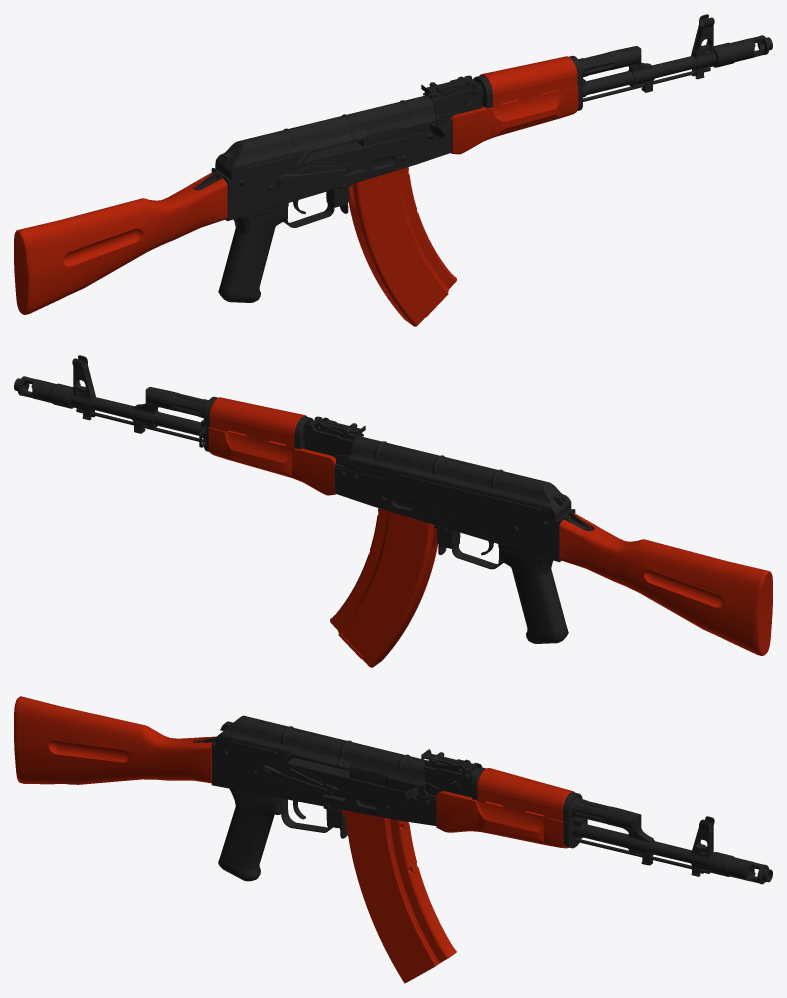
3 renders of one model, top to bottom at view 1: azimuth 30°, elevation 25°; view 2: azimuth 150°, elevation 25°; view 3: azimuth 330°, elevation 25°, orthographic.
Visible parts, largest first — view 1: Object002_low, Box003_low, Box001_low, Object039_low, Object005_low, Object007_low, Object006_low, boltcarrier_low, Object013_low, Object009_low, Object026_low, Object024_low (+4 smaller); view 2: Object002_low, Box003_low, Object039_low, Box001_low, Object005_low, Object007_low, Object006_low, Object013_low, Object026_low, Object024_low, Object018_low, Object016_low (+2 smaller); view 3: Object002_low, Box003_low, Box001_low, Object039_low, Object005_low, Object007_low, Object006_low, boltcarrier_low, Object013_low, Object009_low, Object026_low, Object024_low (+4 smaller).
Part boxes in pixels (box(x1,y1,x2,y2)): Object002_low: box(14, 172, 227, 314); Box003_low: box(348, 167, 456, 326); Box001_low: box(215, 126, 452, 220); Object039_low: box(215, 95, 434, 181); Object005_low: box(451, 86, 578, 154); Object007_low: box(218, 203, 288, 302); Object006_low: box(479, 56, 577, 107); boltcarrier_low: box(357, 108, 443, 146); Object013_low: box(652, 14, 714, 79); Object009_low: box(274, 162, 364, 189); Object026_low: box(423, 75, 482, 117); Object024_low: box(713, 35, 772, 67); Object002_low: box(559, 513, 772, 655); Box003_low: box(330, 508, 438, 667); Object039_low: box(349, 436, 571, 522); Box001_low: box(334, 467, 571, 561); Object005_low: box(208, 427, 335, 495); Object007_low: box(498, 544, 568, 643); Object006_low: box(209, 397, 307, 448); Object013_low: box(72, 355, 134, 420); Object026_low: box(304, 416, 363, 458); Object024_low: box(14, 376, 73, 408); Object018_low: box(131, 387, 173, 433); Object016_low: box(152, 411, 209, 451); Object002_low: box(14, 696, 215, 784); Box003_low: box(342, 810, 456, 983); Box001_low: box(212, 743, 436, 825); Object039_low: box(215, 715, 427, 774); Object005_low: box(436, 791, 568, 848); Object007_low: box(218, 788, 281, 881); Object006_low: box(477, 768, 574, 821); boltcarrier_low: box(349, 759, 424, 801); Object013_low: box(648, 816, 714, 876); Object009_low: box(258, 762, 347, 801); Object026_low: box(423, 759, 482, 797); Object024_low: box(708, 852, 772, 884).
Size of the model in its own units: 182 by 54.36 by 12.92.
